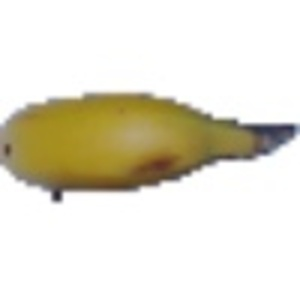banana: (2, 83, 295, 200)
